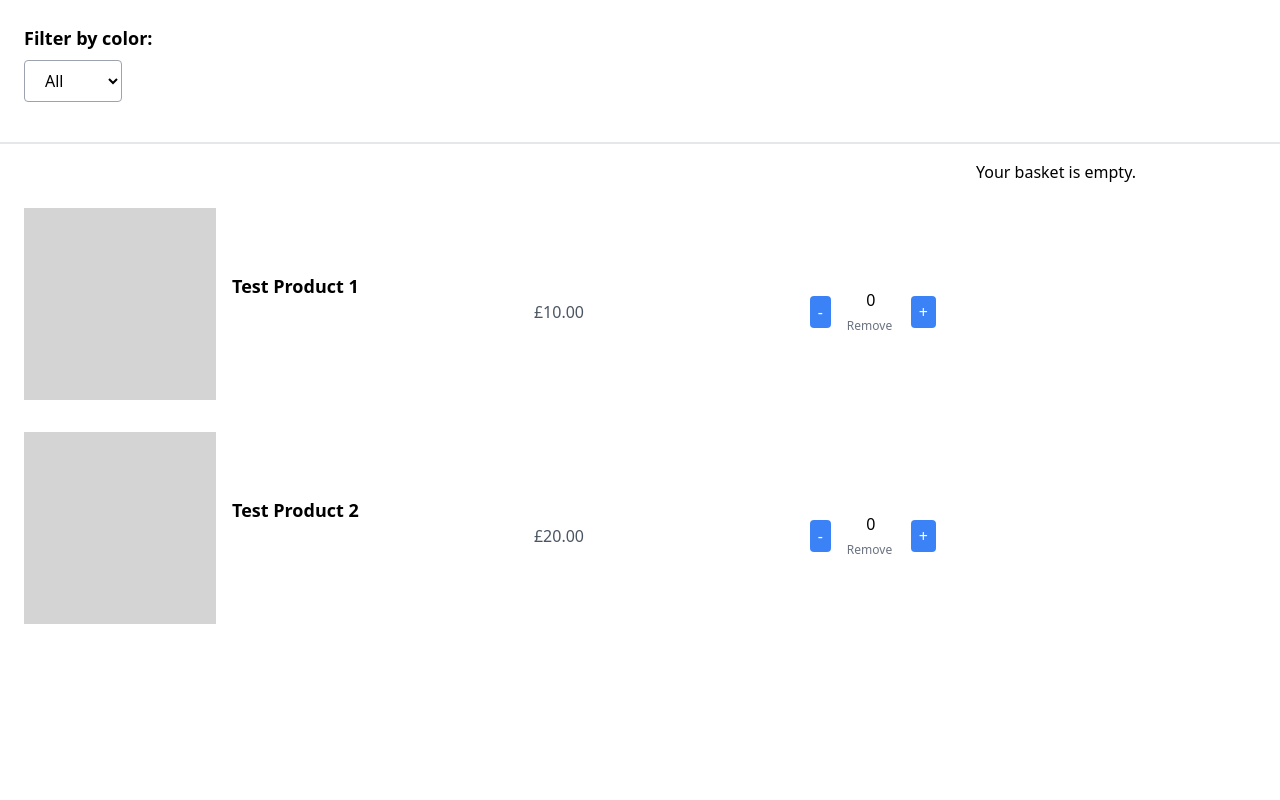
Test: App › when no error › methods › adds a new product to the basket
This screenshot has width=1280, height=800.
Expected: the number of elements with test id "product-card" is 2, [24, 192, 936, 416]; [24, 416, 936, 640]
What coordinates should you click on to do the following:
click the button "+" in the row of "10.00"
I would click on:
 (923, 312)
Its box is [911, 296, 936, 328].
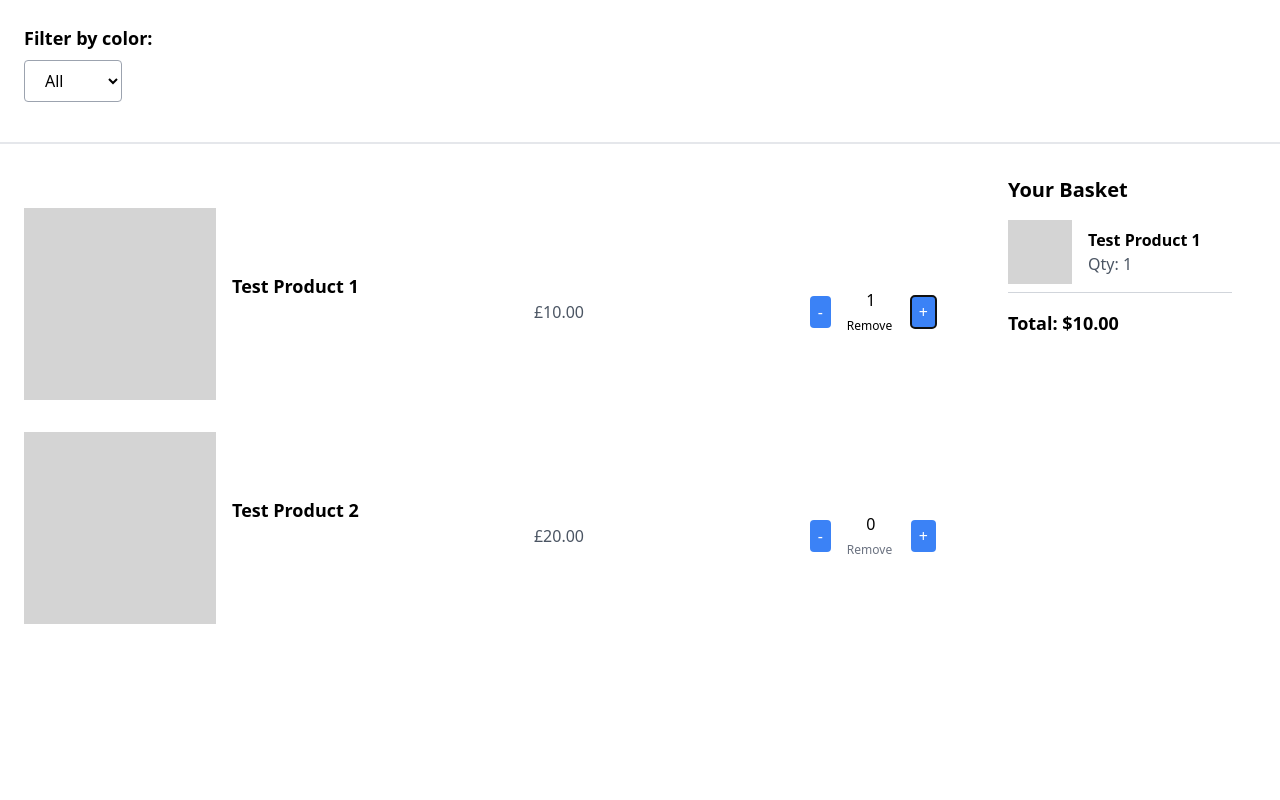
Expected: the element with test id "basket-item" is shown, [1008, 220, 1232, 293]
